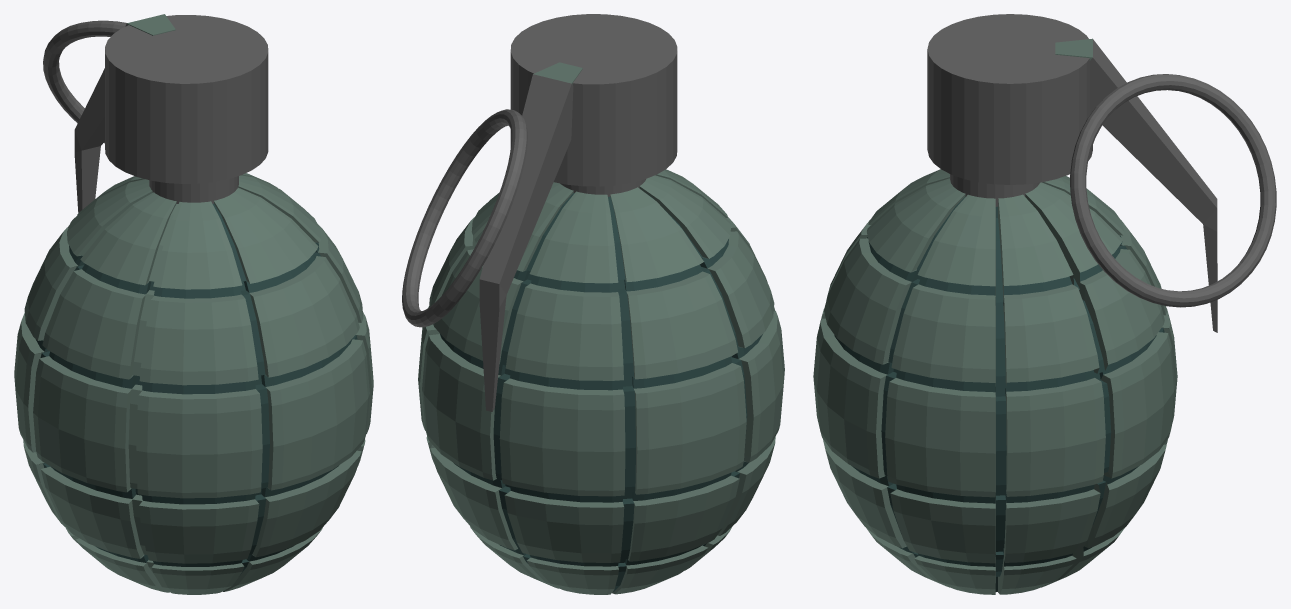
The model's file is Granada.fbx.
3 renders of one model, left to right at view 1: azimuth 30°, elevation 25°; view 2: azimuth 150°, elevation 25°; view 3: azimuth 270°, elevation 25°, orthographic. The views are drawn at different scales.
Visible parts, largest first — view 1: Sphere; view 2: Sphere; view 3: Sphere.
Boxes of the visible parts, left/top/right/bottom form: Sphere: left=14, top=14, right=373, bottom=594; Sphere: left=402, top=14, right=784, bottom=594; Sphere: left=813, top=14, right=1276, bottom=594.
Bounding box in the file's own units: 312 × 504 × 397.
